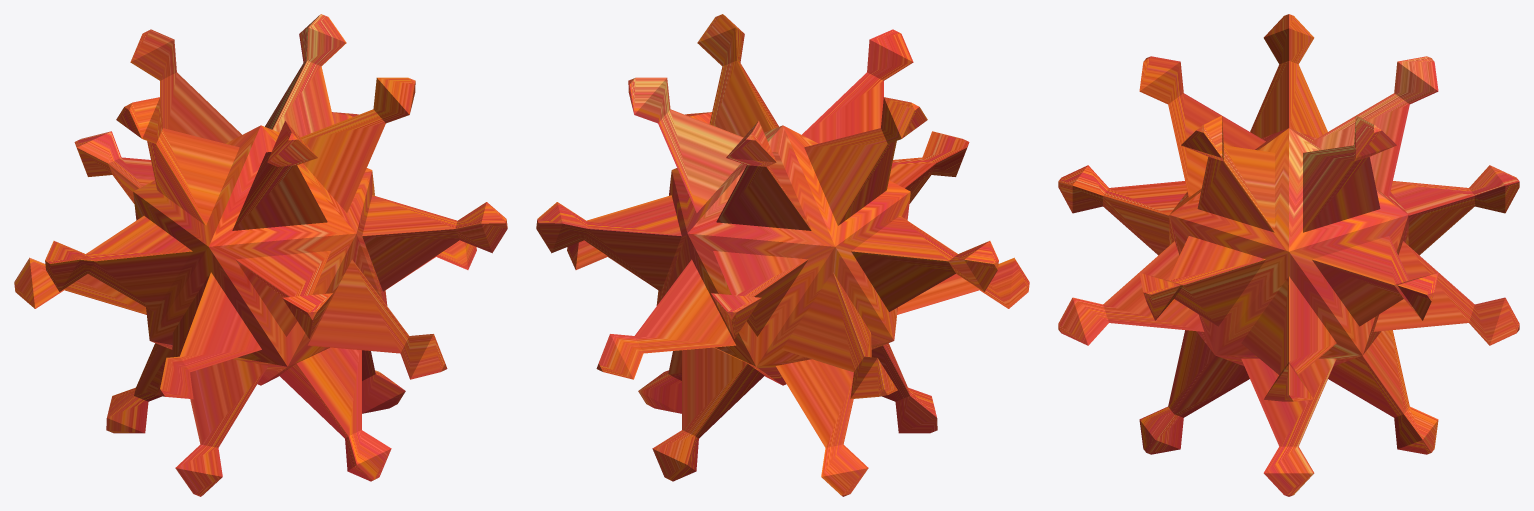
The model's file is virus2Fire.fbx.
3 views of the same model, side by side, from view 1: azimuth 30°, elevation 25°; view 2: azimuth 150°, elevation 25°; view 3: azimuth 270°, elevation 25° (orthographic). The views are drawn at different scales.
Parts seen in each view (by area): view 1: Icosphere; view 2: Icosphere; view 3: Icosphere.
Boxes of the visible parts, <box> form: Icosphere: <box>14,14,507,496</box>; Icosphere: <box>536,14,1029,496</box>; Icosphere: <box>1058,14,1519,496</box>.
Size of the model in its own units: 349 by 286 by 332.
